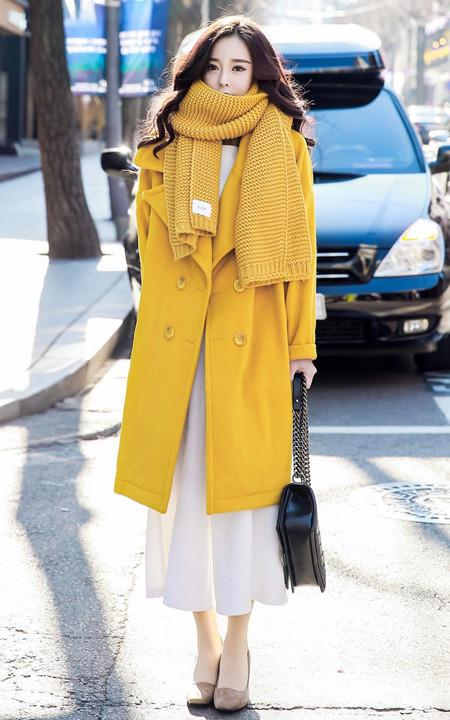WRONG: (202, 52, 258, 108)
